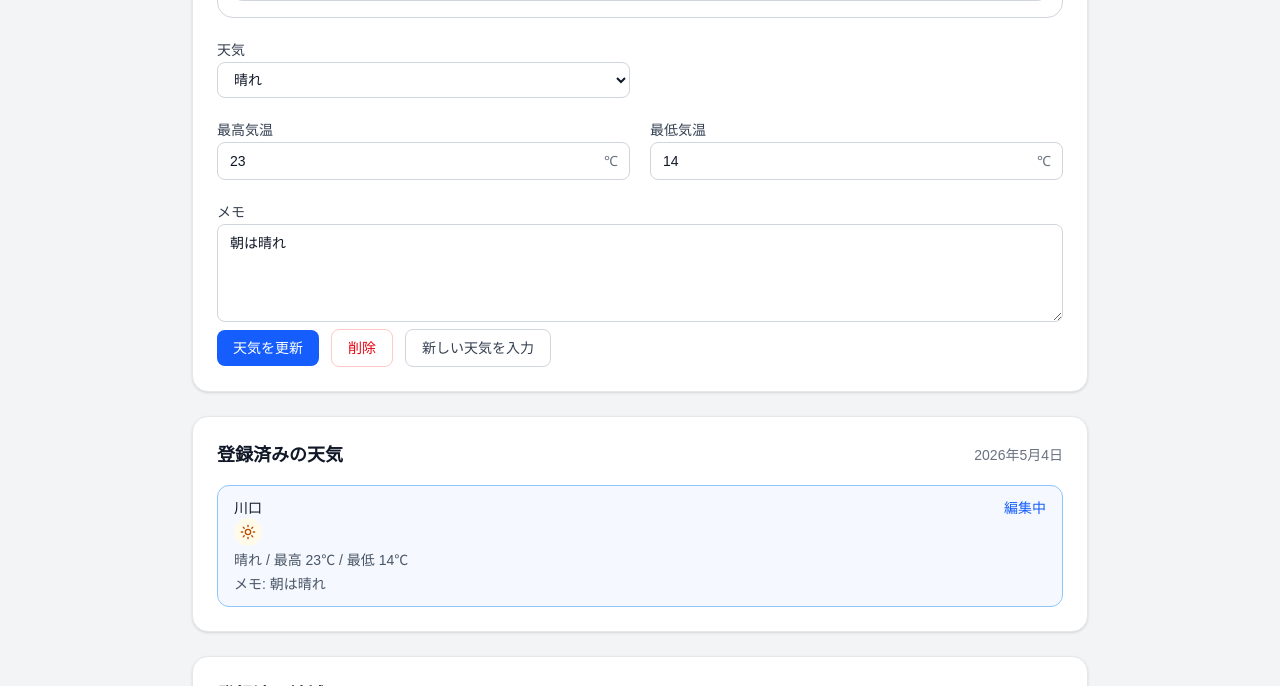
Test: WearLogWeatherPage › 天気削除でアプリ内確認 UI を表示して削除できる
(page scrolled)
Expected: the text "天気記録を削除しますか？" is not shown
Click the button "削除" at coordinates (362, 348), box [331,329,393,367]
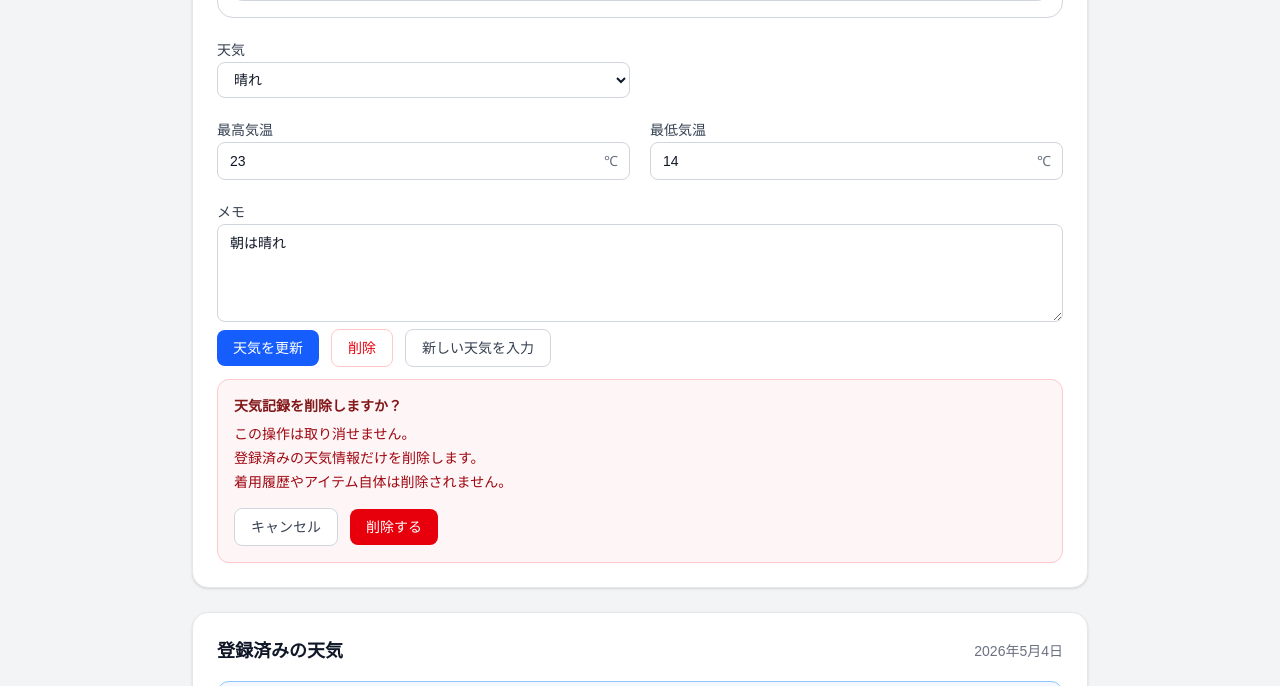
Result: the text "天気記録を削除しますか？" is shown at [234,398,402,414]
Result: the text "登録済みの天気情報だけを削除します。" is shown at [234,450,485,466]
Result: the text "着用履歴やアイテム自体は削除されません。" is shown at [234,474,512,490]
Click the button "キャンセル" at coordinates (286, 527), box [234,508,338,546]
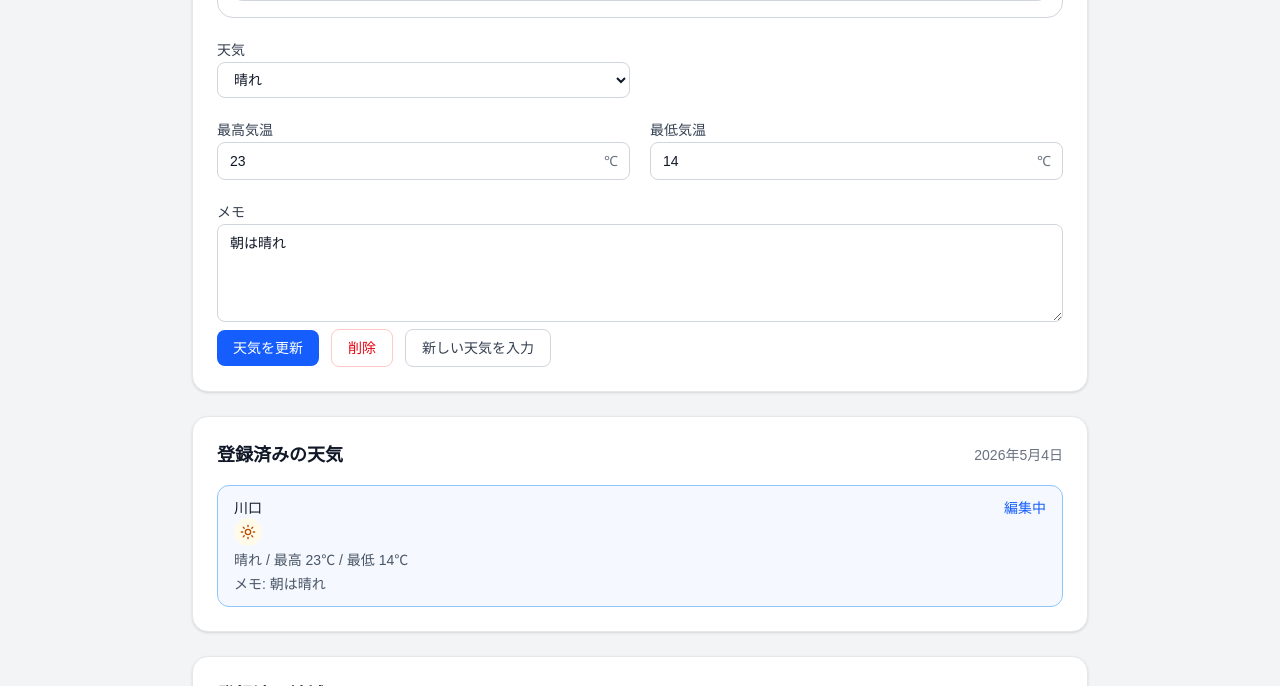
Result: the text "天気記録を削除しますか？" is gone
Click the button "削除" at coordinates (362, 348), box [331,329,393,367]
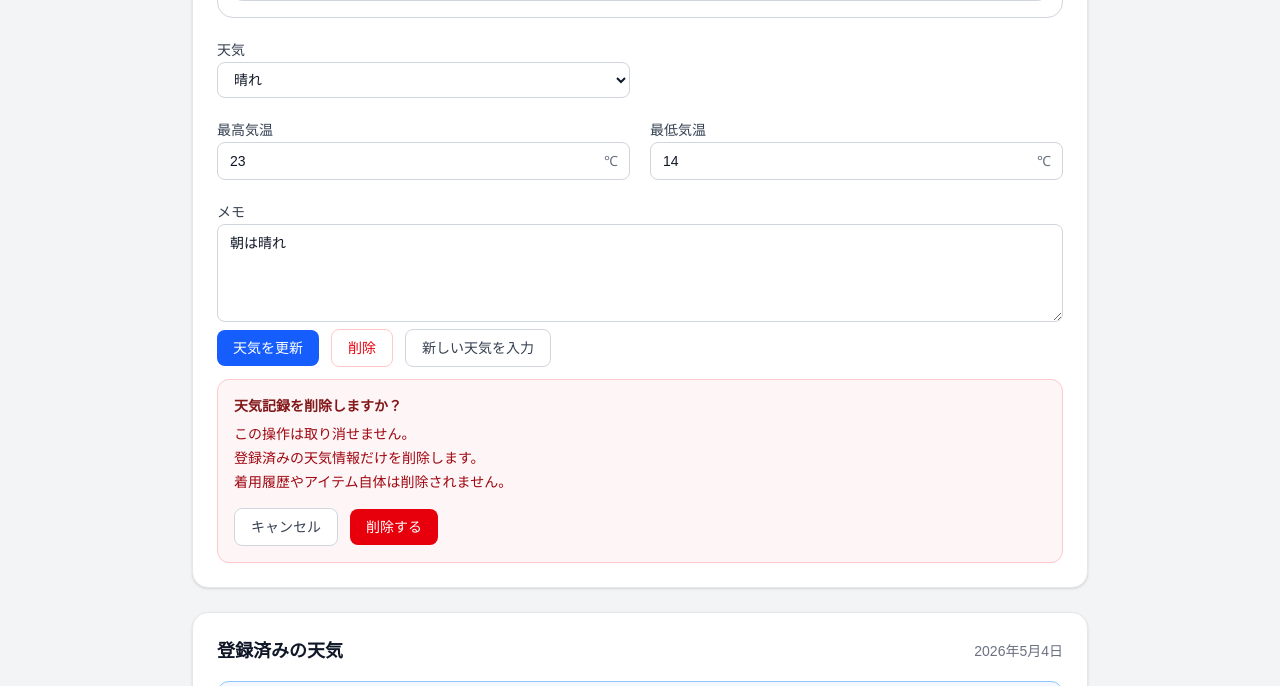
Click the button "削除する" at coordinates (394, 527), box [350,509,438,545]
(page scrolled)
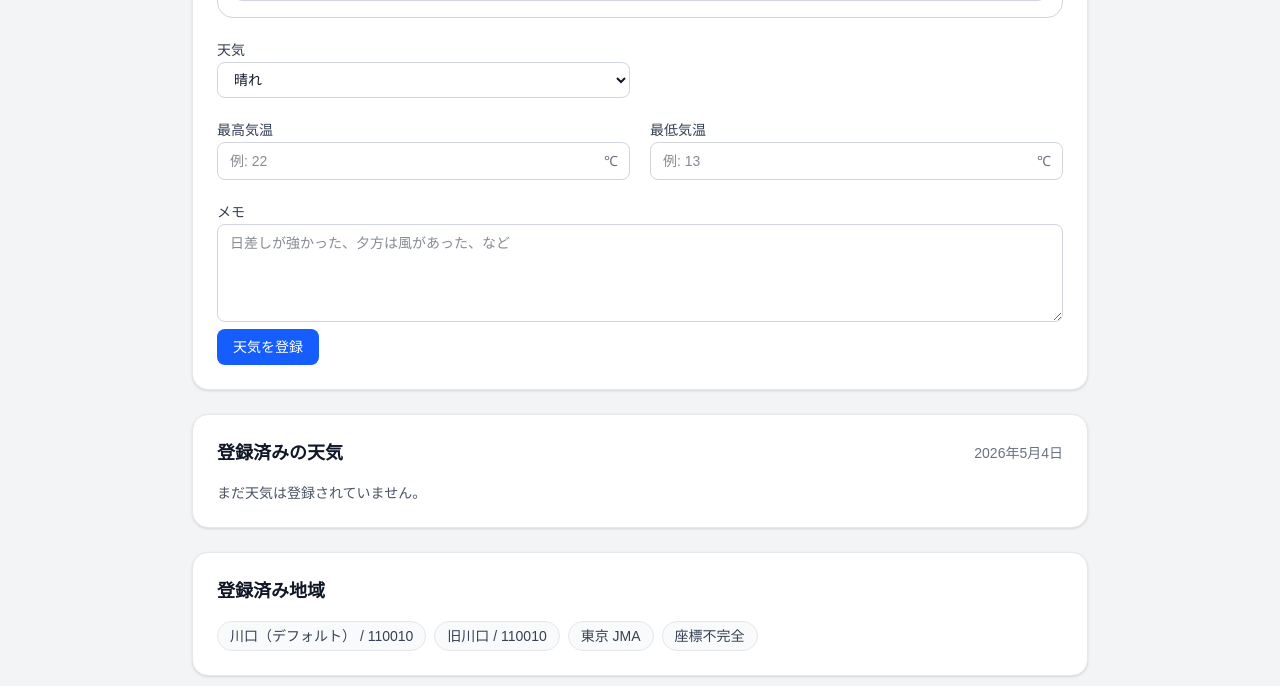
Result: the text "天気記録を削除しますか？" is gone
